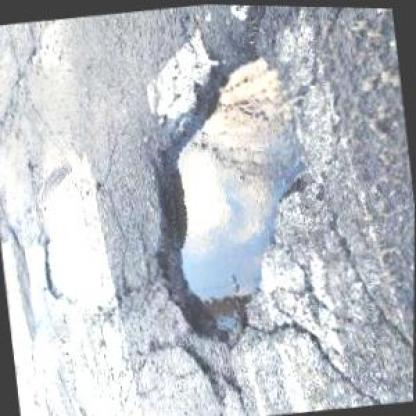pothole: (129, 43, 331, 354), (34, 236, 64, 302)
